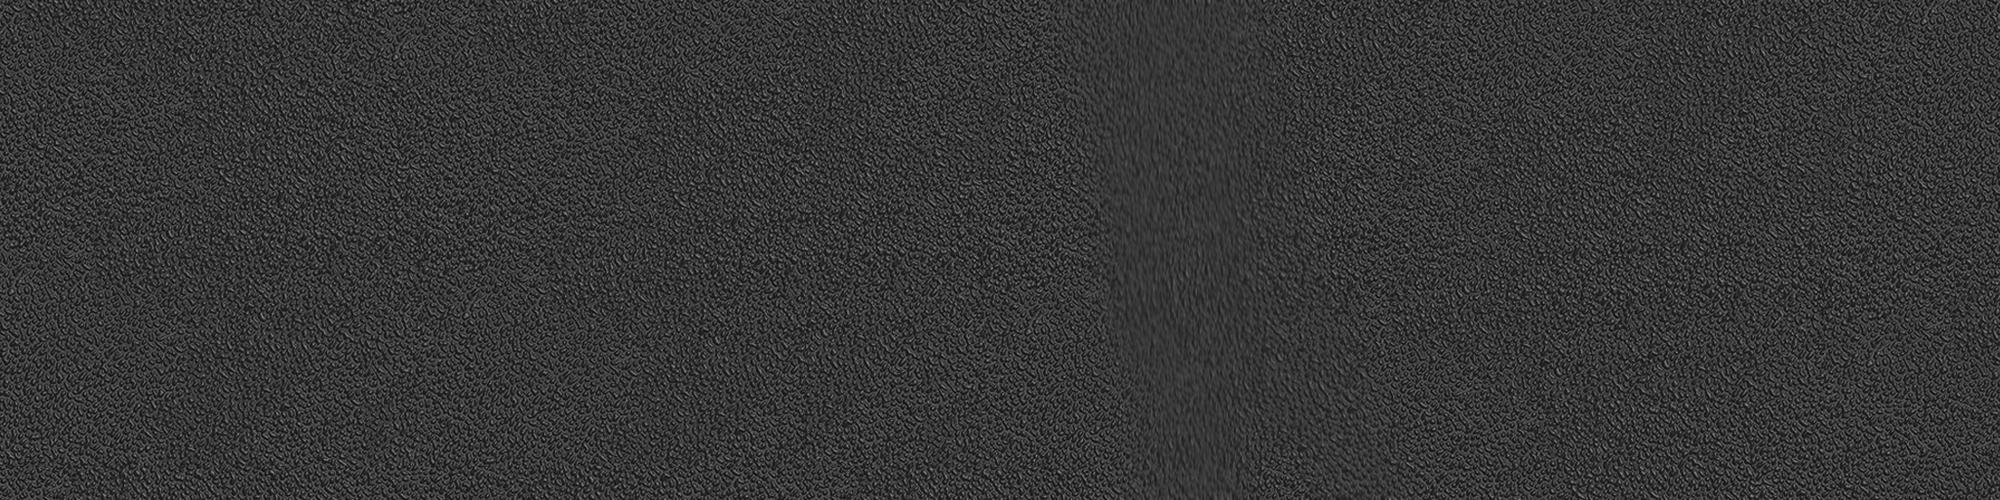Flow_Lines: (1061, 24, 1267, 480)
